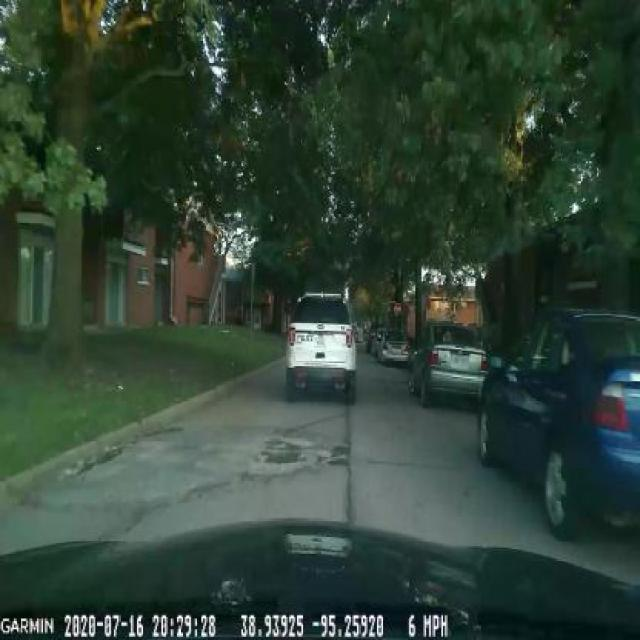Pothole: (253, 424, 310, 485), (318, 433, 357, 479)
